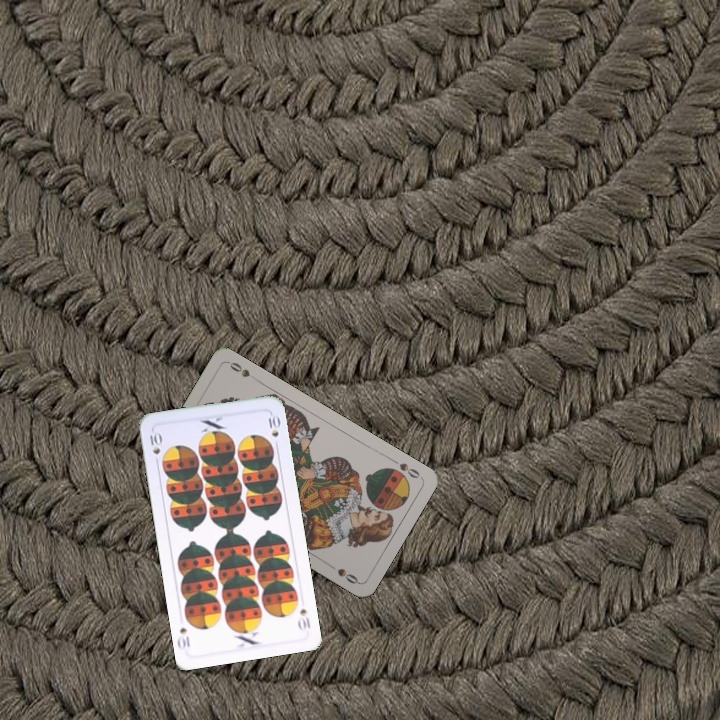S10: (145, 427, 164, 467), (294, 604, 313, 633)
SO: (387, 454, 424, 481)
